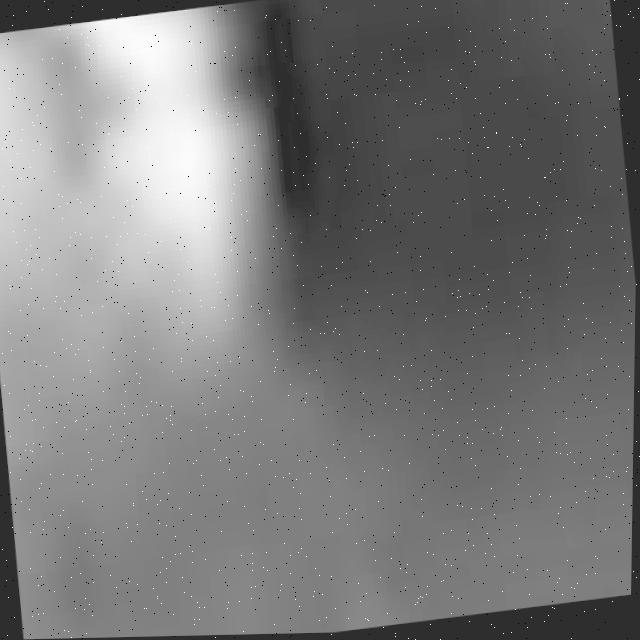person: (21, 1, 296, 424)
